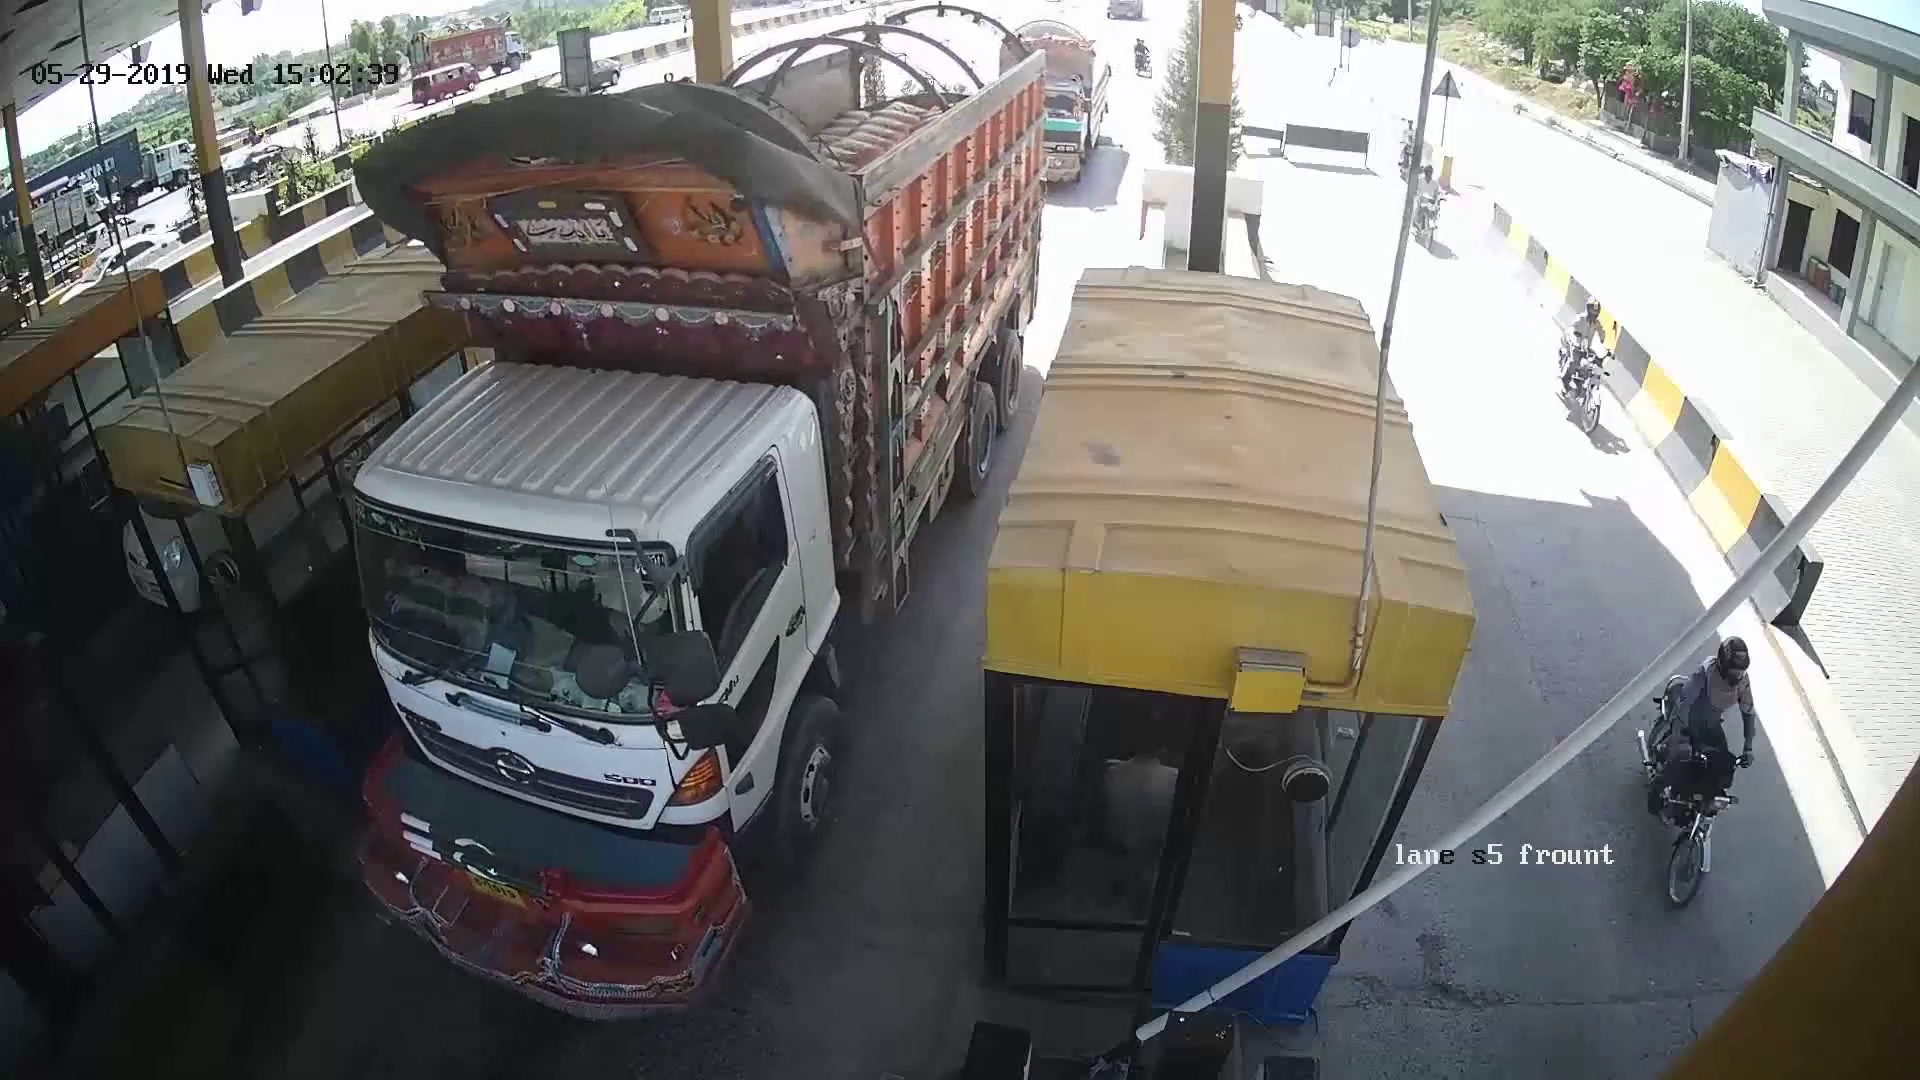truck: (375, 100, 986, 996)
